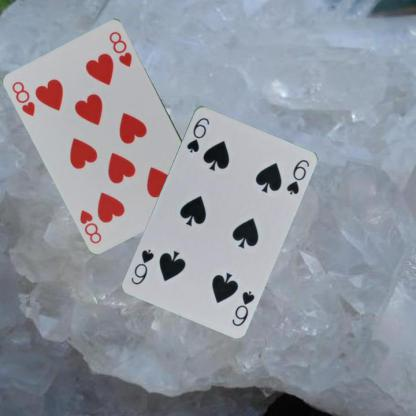6s: (184, 114, 211, 154), (229, 288, 256, 328)
8h: (9, 78, 37, 118)
